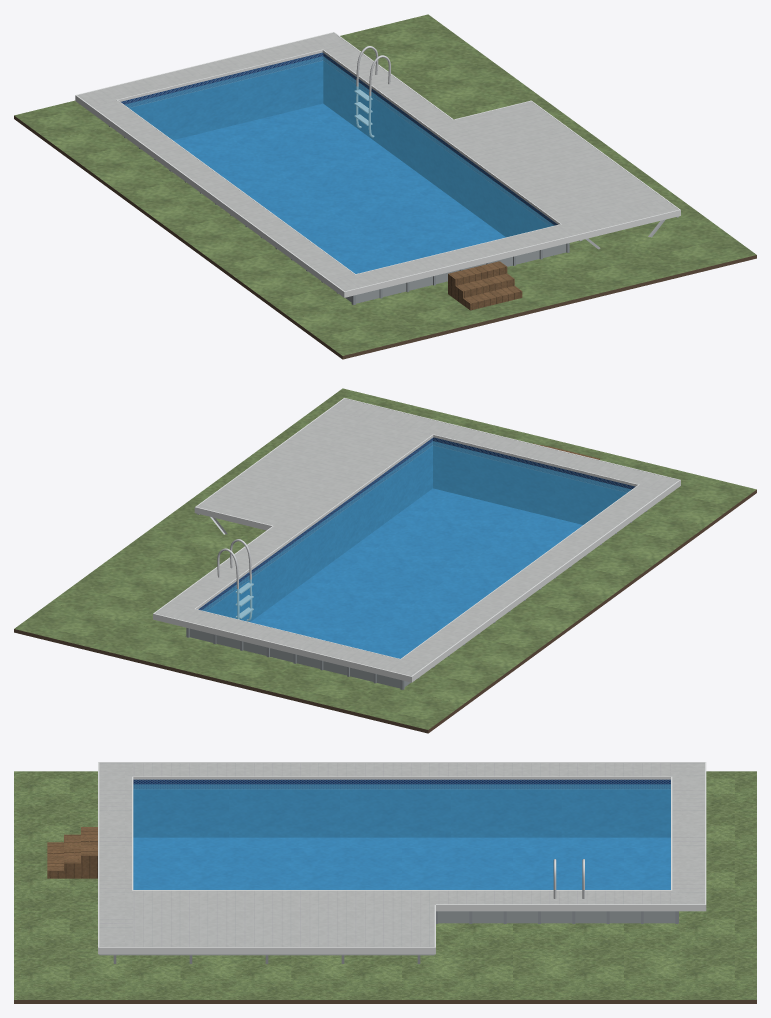
Rendered from kayak-pool-16x32-gray-l-rec-nofence.2239d6f25b.glb.
3 renders of one model, top to bottom at view 1: azimuth 30°, elevation 25°; view 2: azimuth 150°, elevation 25°; view 3: azimuth 270°, elevation 25°, orthographic. The views are drawn at different scales.
Visible parts, largest first — view 1: ground, water, deck, liner_floor, liner_wall, fascia, soil, steps, wall, steel; view 2: ground, water, deck, liner_floor, liner_wall, fascia, soil, wall, steel; view 3: ground, water, deck, liner_wall, liner_floor, fascia, soil, wall, steps, stud.
Boxes of the visible parts, x1,y1,x2,y2 form: ground: (14,14,756,355); water: (125,56,553,273); deck: (77,33,678,291); liner_floor: (173,104,505,273); liner_wall: (121,52,557,237); fascia: (75,32,680,297); soil: (14,115,756,359); steps: (448,261,522,310); wall: (345,244,566,303); steel: (354,46,390,137); ground: (14,388,756,729); water: (202,441,631,658); deck: (155,399,678,675); liner_floor: (251,488,582,658); liner_wall: (198,437,635,621); fascia: (153,398,680,682); soil: (14,489,756,733); wall: (189,628,410,688); steel: (217,539,253,621); ground: (14,771,756,999); water: (133,784,670,889); deck: (99,763,704,946); liner_wall: (133,779,670,837); liner_floor: (133,837,670,889); fascia: (98,762,706,954); soil: (14,1000,756,1003); wall: (438,911,675,923); steps: (47,827,97,878); stud: (99,954,434,963).
Size of the model in its own units: 9.75 by 1.9 by 13.4.
Materials: 12 (5 with a texture image).
